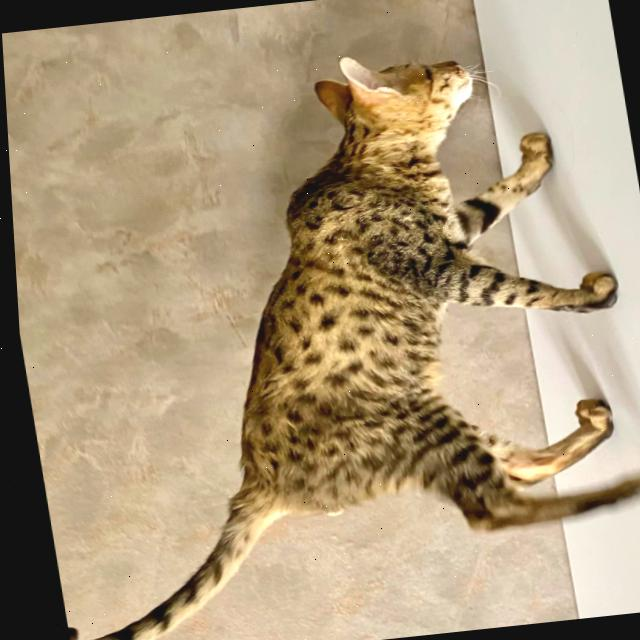Savannah: (1, 27, 640, 640)
